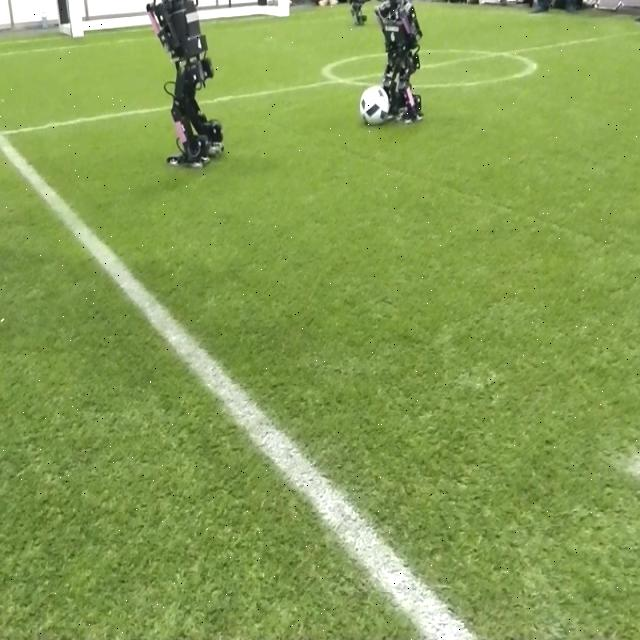ball: (362, 88, 389, 127)
goalpost: (68, 0, 85, 39), (278, 0, 292, 19)
